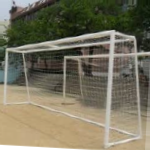goals: (3, 28, 144, 147)
